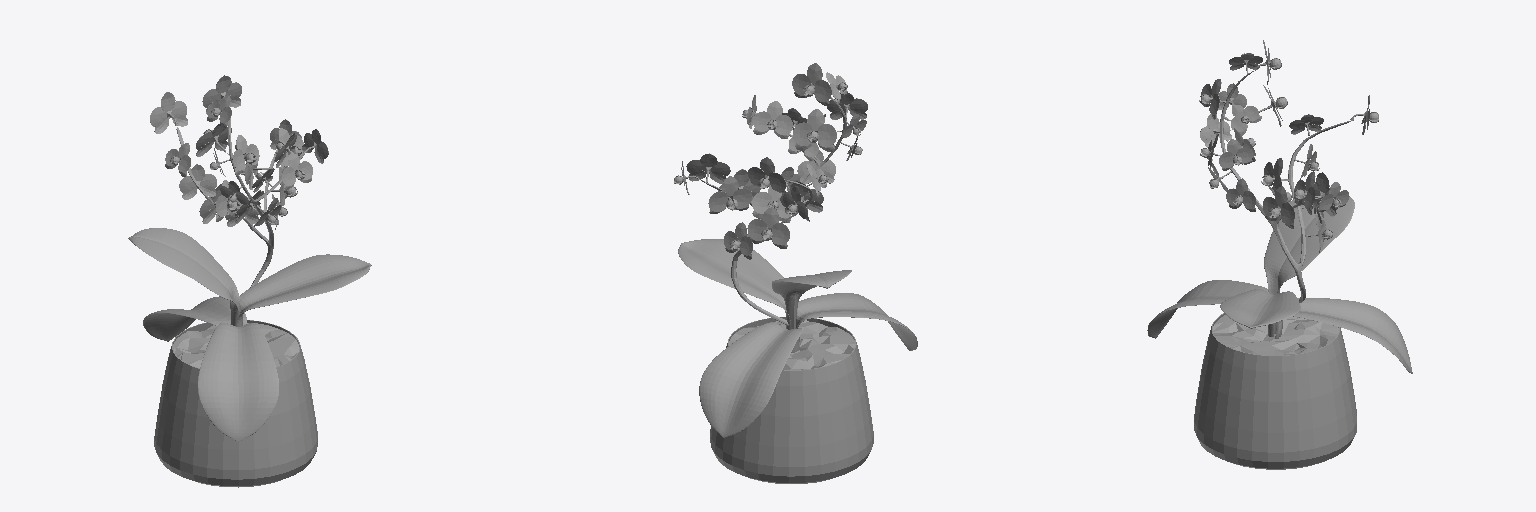
File: orchids.obj
The picture shows the model from 3 angles: view 1: azimuth 30°, elevation 25°; view 2: azimuth 150°, elevation 25°; view 3: azimuth 270°, elevation 25°; orthographic projection.
Parts seen in each view (by area): view 1: Pot_Cylinder, Leaf.001_Plane.001, Leaf.002_Plane.002, Leaf.003_Plane.003, Leaf_Plane, Pot.001_Cylinder.003, stalk_Cylinder.002, Flower.024_Plane.029, Flower.022_Plane.027, Flower.012_Plane.017, Flower.003_Plane.008, Flower.008_Plane.013 (+2 smaller); view 2: Pot_Cylinder, Leaf_Plane, Leaf.002_Plane.002, Pot.001_Cylinder.003, Leaf.001_Plane.001, Leaf.003_Plane.003, Flower.011_Plane.016, Flower.020_Plane.025, Flower.016_Plane.021, Flower.012_Plane.017, stalk_Cylinder.002, Flower.006_Plane.011 (+5 smaller); view 3: Pot_Cylinder, Pot.001_Cylinder.003, Leaf_Plane, Leaf.003_Plane.003, Leaf.002_Plane.002, Leaf.001_Plane.001, stalk_Cylinder.002, Flower.015_Plane.020, Flower.005_Plane.010, Flower_Plane.005, Flower.018_Plane.023, Flower.009_Plane.014.
Boxes of the visible parts, x1=… form: Pot_Cylinder: x1=154, y1=320, x2=317, y2=487; Leaf.001_Plane.001: x1=198, y1=323, x2=278, y2=441; Leaf.002_Plane.002: x1=236, y1=254, x2=371, y2=326; Leaf.003_Plane.003: x1=128, y1=228, x2=240, y2=325; Leaf_Plane: x1=143, y1=296, x2=246, y2=341; Pot.001_Cylinder.003: x1=173, y1=323, x2=298, y2=367; stalk_Cylinder.002: x1=176, y1=118, x2=304, y2=287; Flower.024_Plane.029: x1=150, y1=92, x2=187, y2=133; Flower.022_Plane.027: x1=179, y1=164, x2=216, y2=199; Flower.012_Plane.017: x1=202, y1=75, x2=241, y2=113; Flower.003_Plane.008: x1=282, y1=153, x2=312, y2=189; Flower.008_Plane.013: x1=232, y1=135, x2=259, y2=175; Pot_Cylinder: x1=710, y1=317, x2=873, y2=483; Leaf_Plane: x1=699, y1=322, x2=801, y2=437; Leaf.002_Plane.002: x1=678, y1=239, x2=797, y2=329; Pot.001_Cylinder.003: x1=729, y1=320, x2=855, y2=369; Leaf.001_Plane.001: x1=796, y1=293, x2=917, y2=350; Leaf.003_Plane.003: x1=772, y1=270, x2=851, y2=328; Flower.011_Plane.016: x1=793, y1=109, x2=836, y2=151; Flower.020_Plane.025: x1=747, y1=207, x2=789, y2=248; Flower.016_Plane.021: x1=708, y1=176, x2=751, y2=213; Flower.012_Plane.017: x1=792, y1=63, x2=831, y2=105; stalk_Cylinder.002: x1=699, y1=97, x2=846, y2=325; Flower.006_Plane.011: x1=753, y1=101, x2=792, y2=138; Pot_Cylinder: x1=1194, y1=313, x2=1356, y2=469; Pot.001_Cylinder.003: x1=1213, y1=315, x2=1338, y2=355; Leaf_Plane: x1=1275, y1=298, x2=1412, y2=373; Leaf.003_Plane.003: x1=1264, y1=197, x2=1354, y2=294; Leaf.002_Plane.002: x1=1220, y1=289, x2=1300, y2=328; Leaf.001_Plane.001: x1=1147, y1=280, x2=1276, y2=338; stalk_Cylinder.002: x1=1220, y1=71, x2=1350, y2=302; Flower.015_Plane.020: x1=1263, y1=186, x2=1294, y2=228; Flower.005_Plane.010: x1=1219, y1=139, x2=1252, y2=170; Flower_Plane.005: x1=1226, y1=178, x2=1255, y2=211; Flower.018_Plane.023: x1=1293, y1=171, x2=1320, y2=214; Flower.009_Plane.014: x1=1231, y1=105, x2=1261, y2=135.
Size of the model in its own units: 3.1 by 5.76 by 3.52.